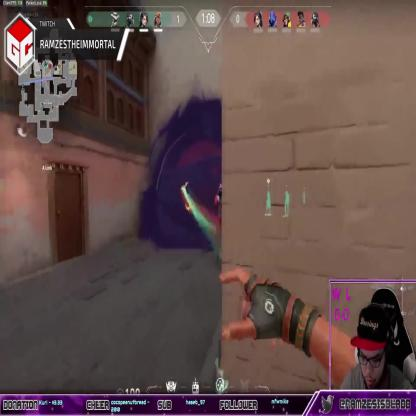enemy: (212, 183, 231, 266)
enemy_head: (218, 184, 224, 196)
